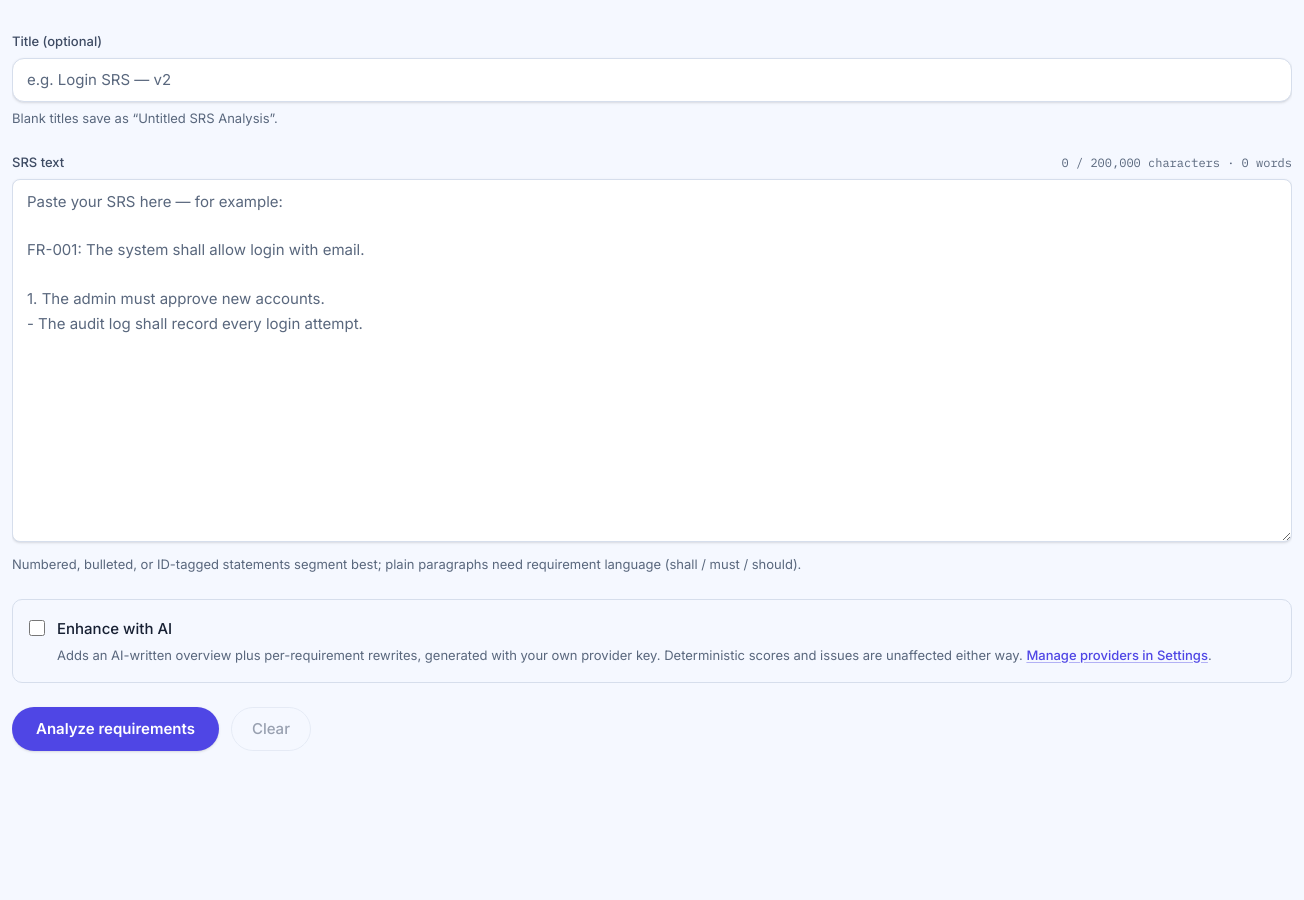
it: AnalyzerForm › maps no_requirements_detected to guidance copy (never server strings)
The image size is (1304, 900).
Replace the text in the text box labelled "SRS text" with "plain prose" at (652, 360), box [12, 179, 1292, 542]
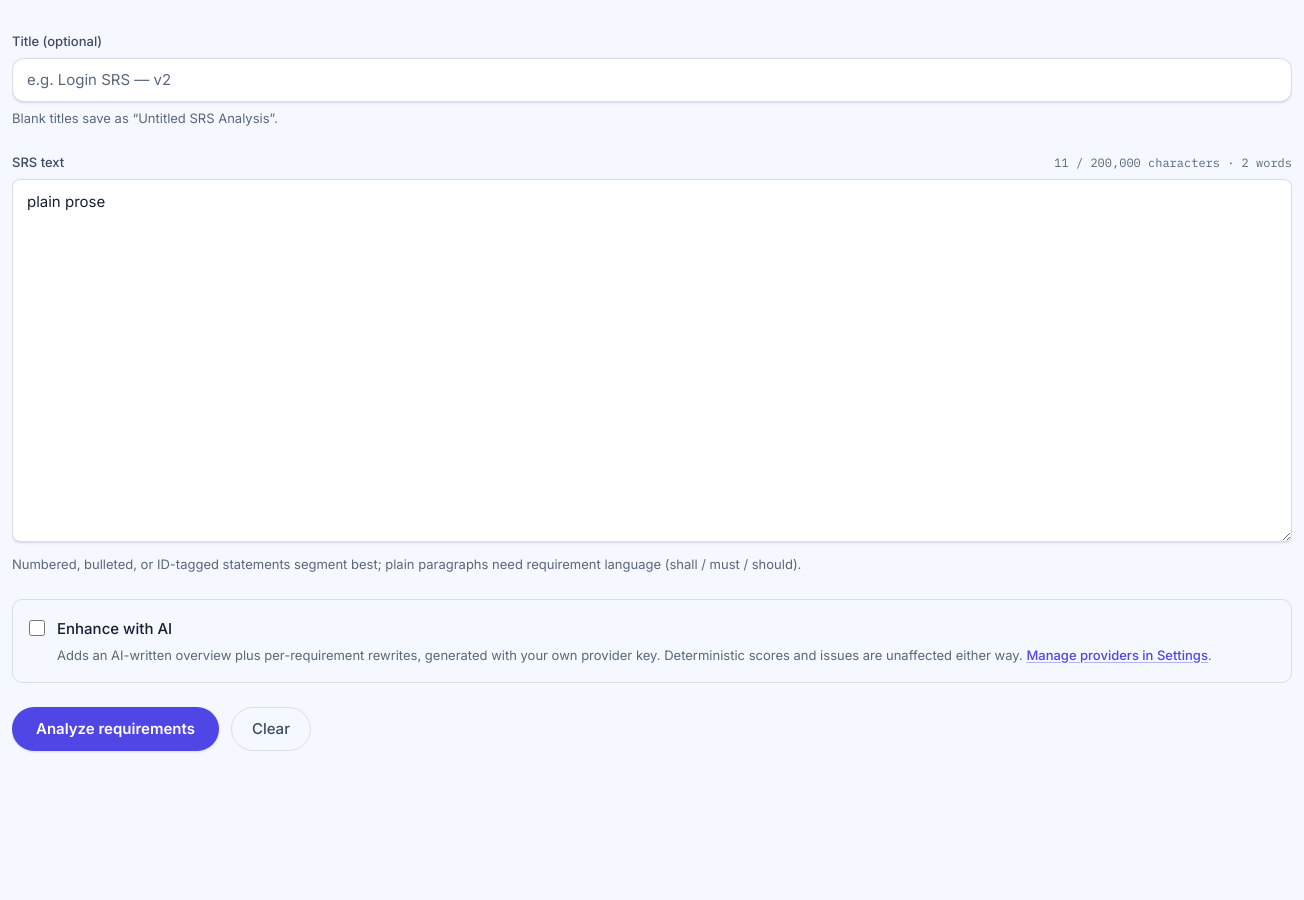
Click the button "Analyze requirements" at (115, 729), box [12, 707, 219, 751]
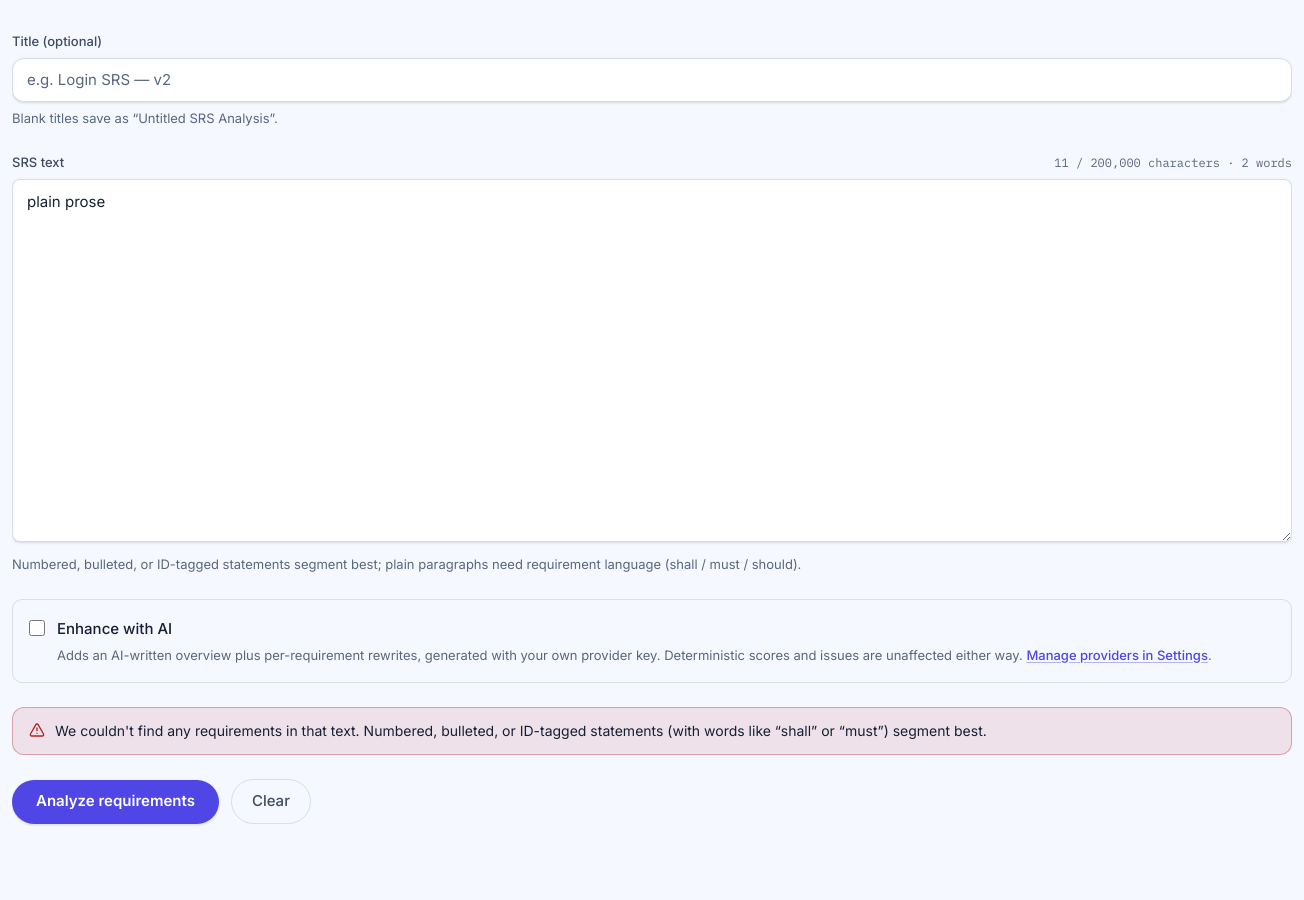
Check: the message shows "couldn't find any requirements", box [55, 722, 987, 739]
